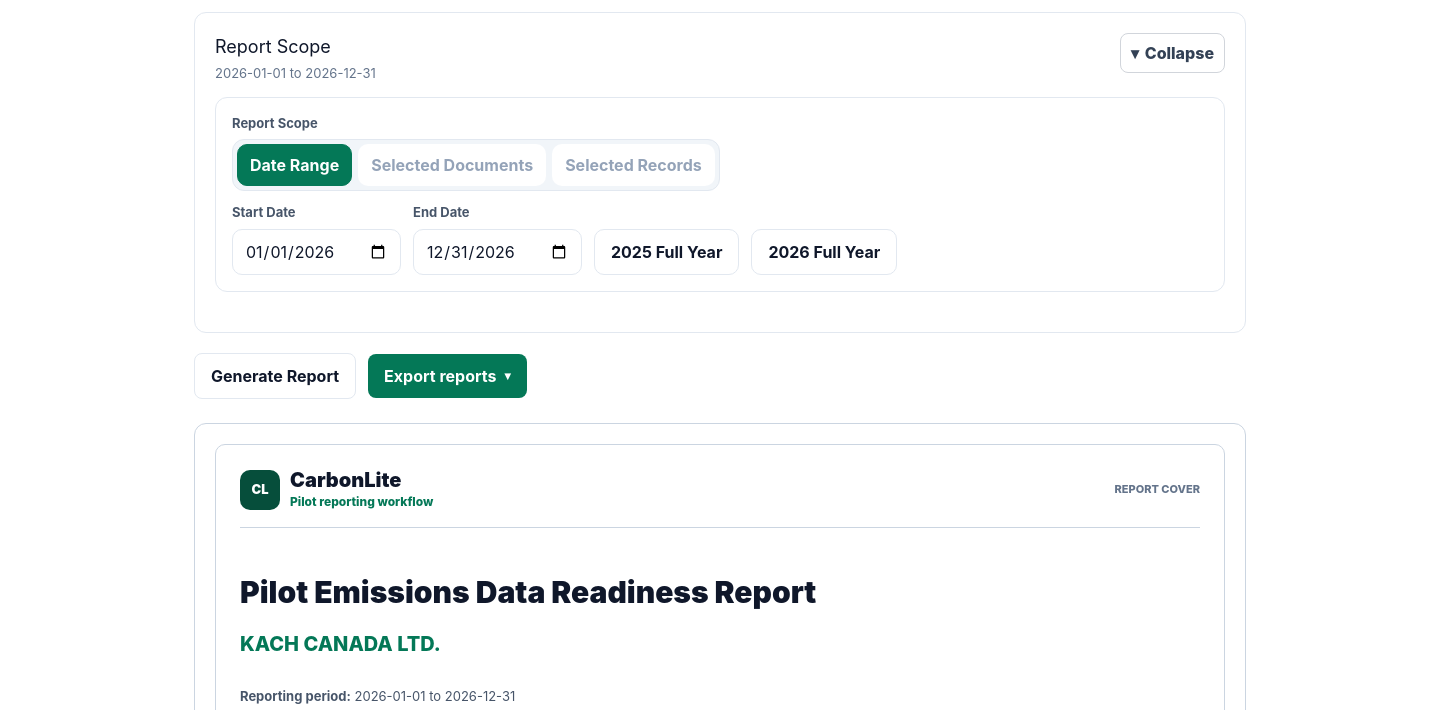
Test: ReportingPage audit trail › shows one global expand/collapse control pair that controls report sections
(page scrolled)
Click the button "Generate Report".
click(275, 376)  # box [194,353,356,399]
(page scrolled)
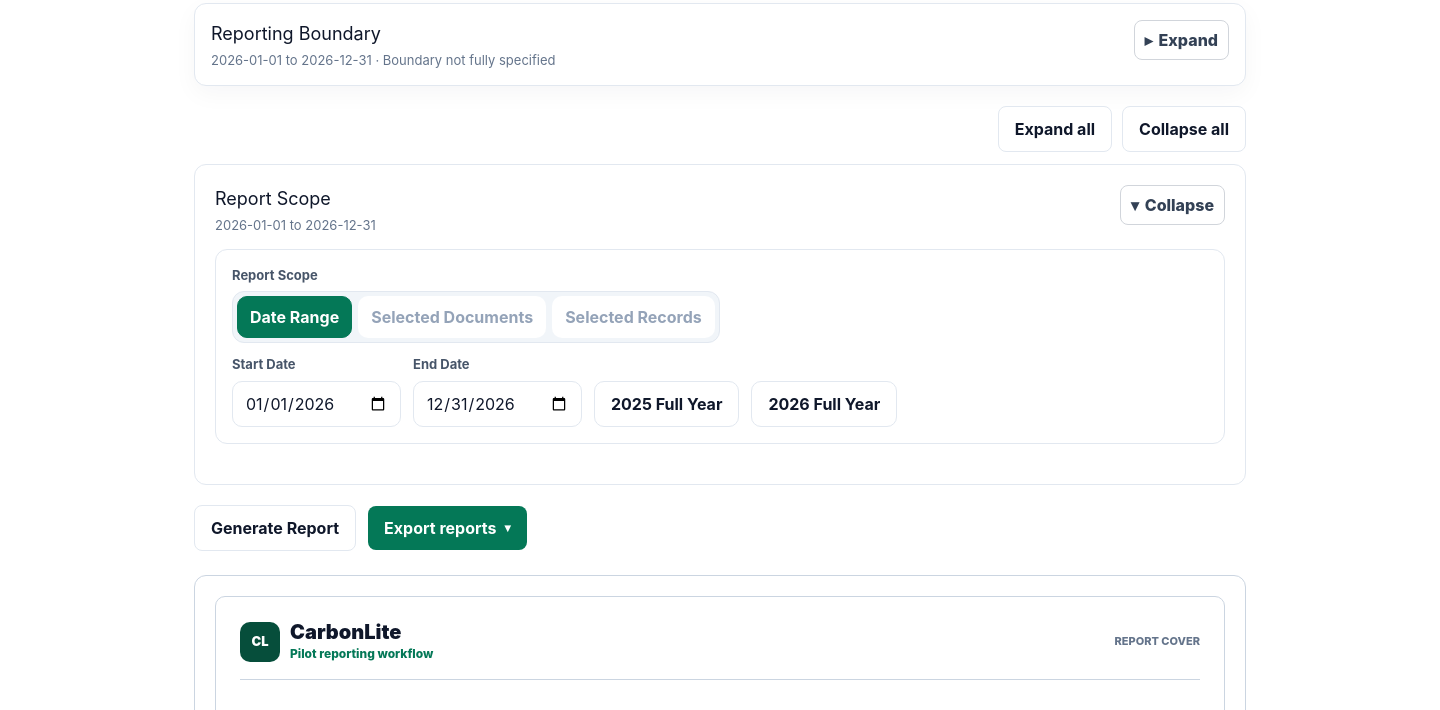
Expected: the number of buttons "Collapse all" is 1, [1122,106,1246,152]
Click the button "Expand all".
click(1055, 130)  # box [998,106,1112,152]
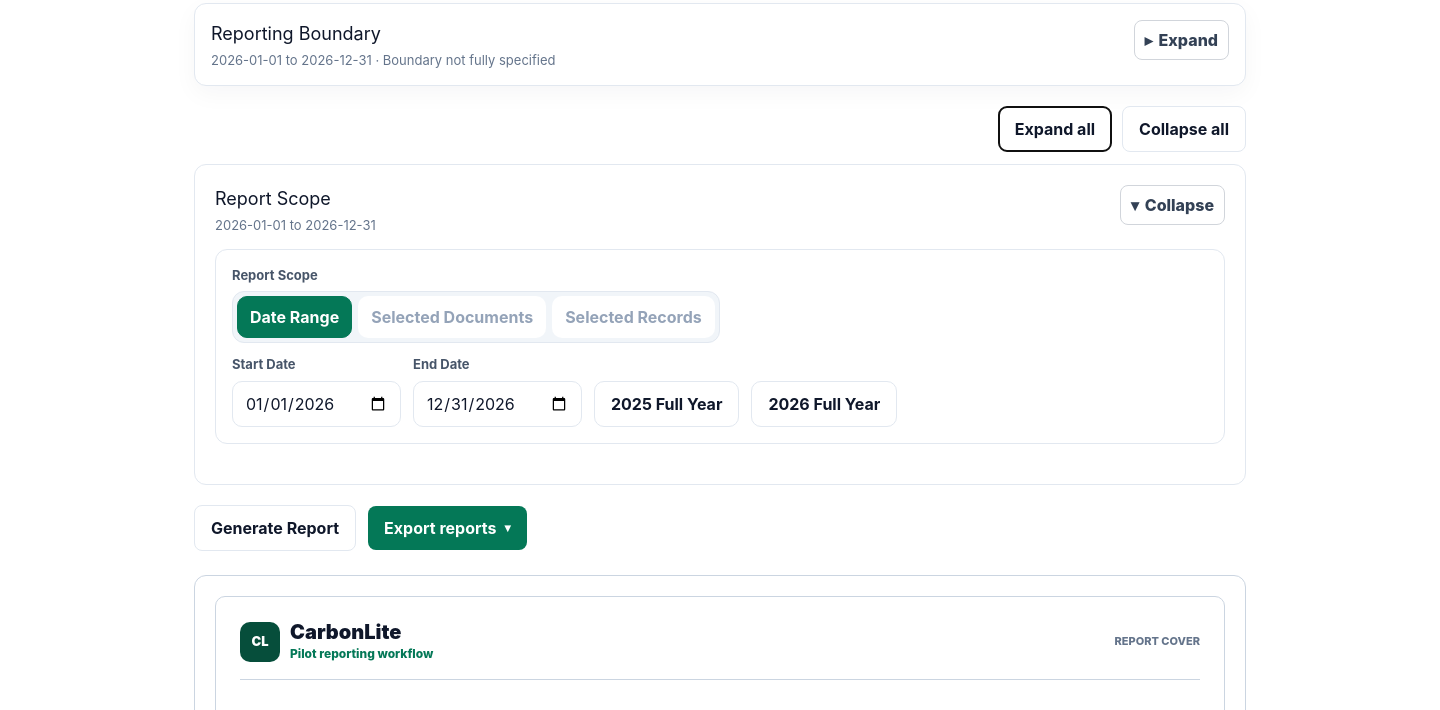
Click the button "Collapse all".
click(1184, 130)  # box [1122,106,1246,152]
(page scrolled)
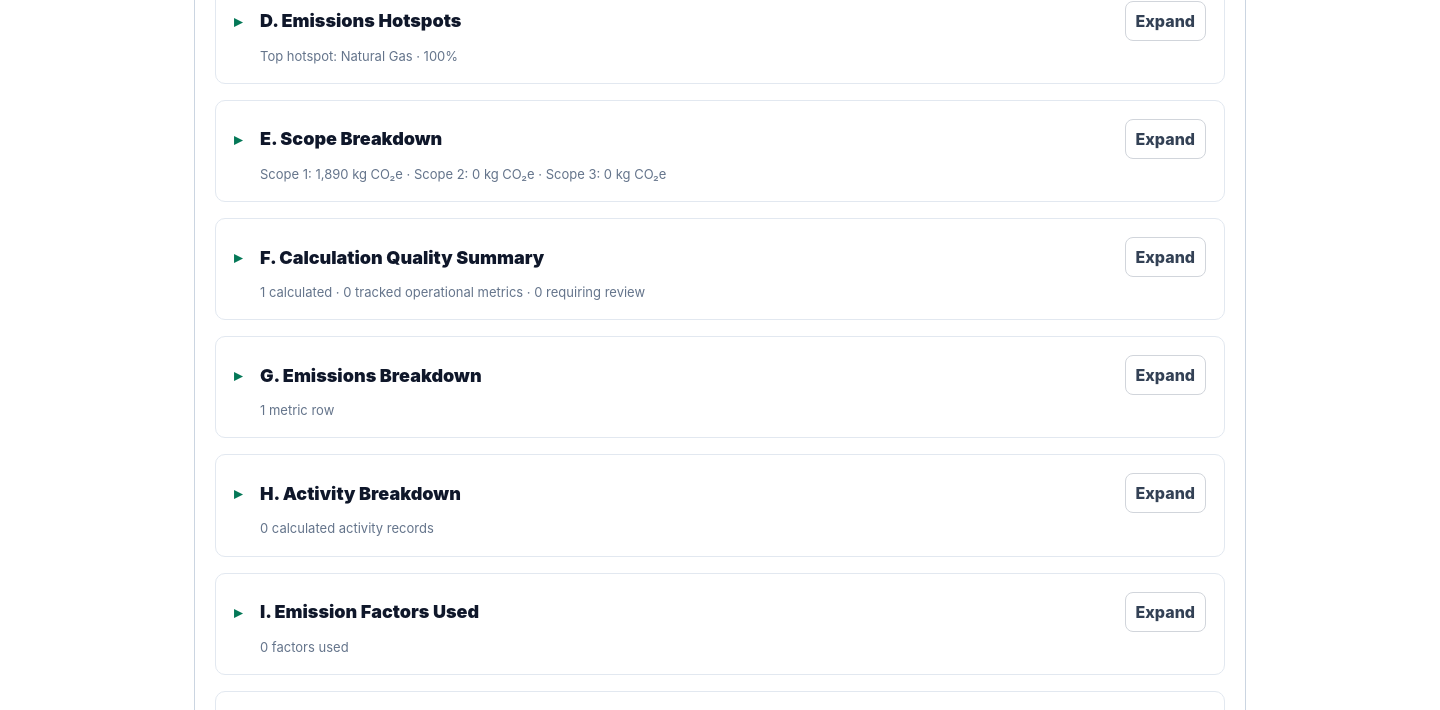
Expected: the button with aria-label "Expand G. Emissions Breakdown" is collapsed, [234,355,1206,395]
